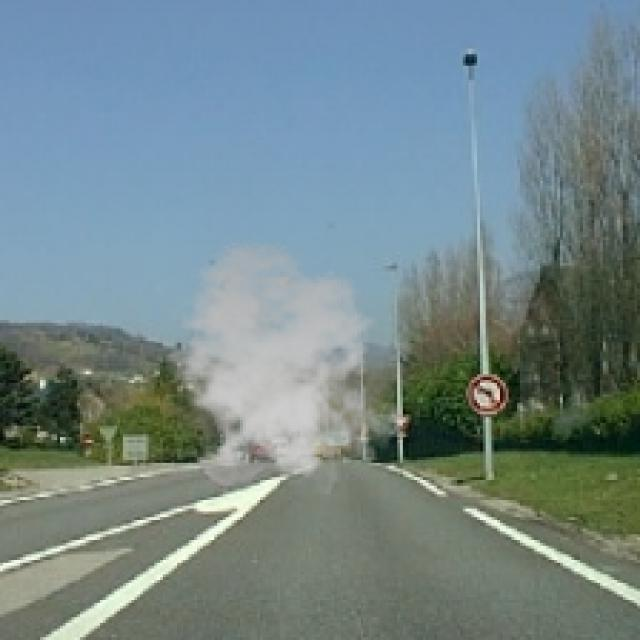Smoke: (154, 240, 403, 494)
